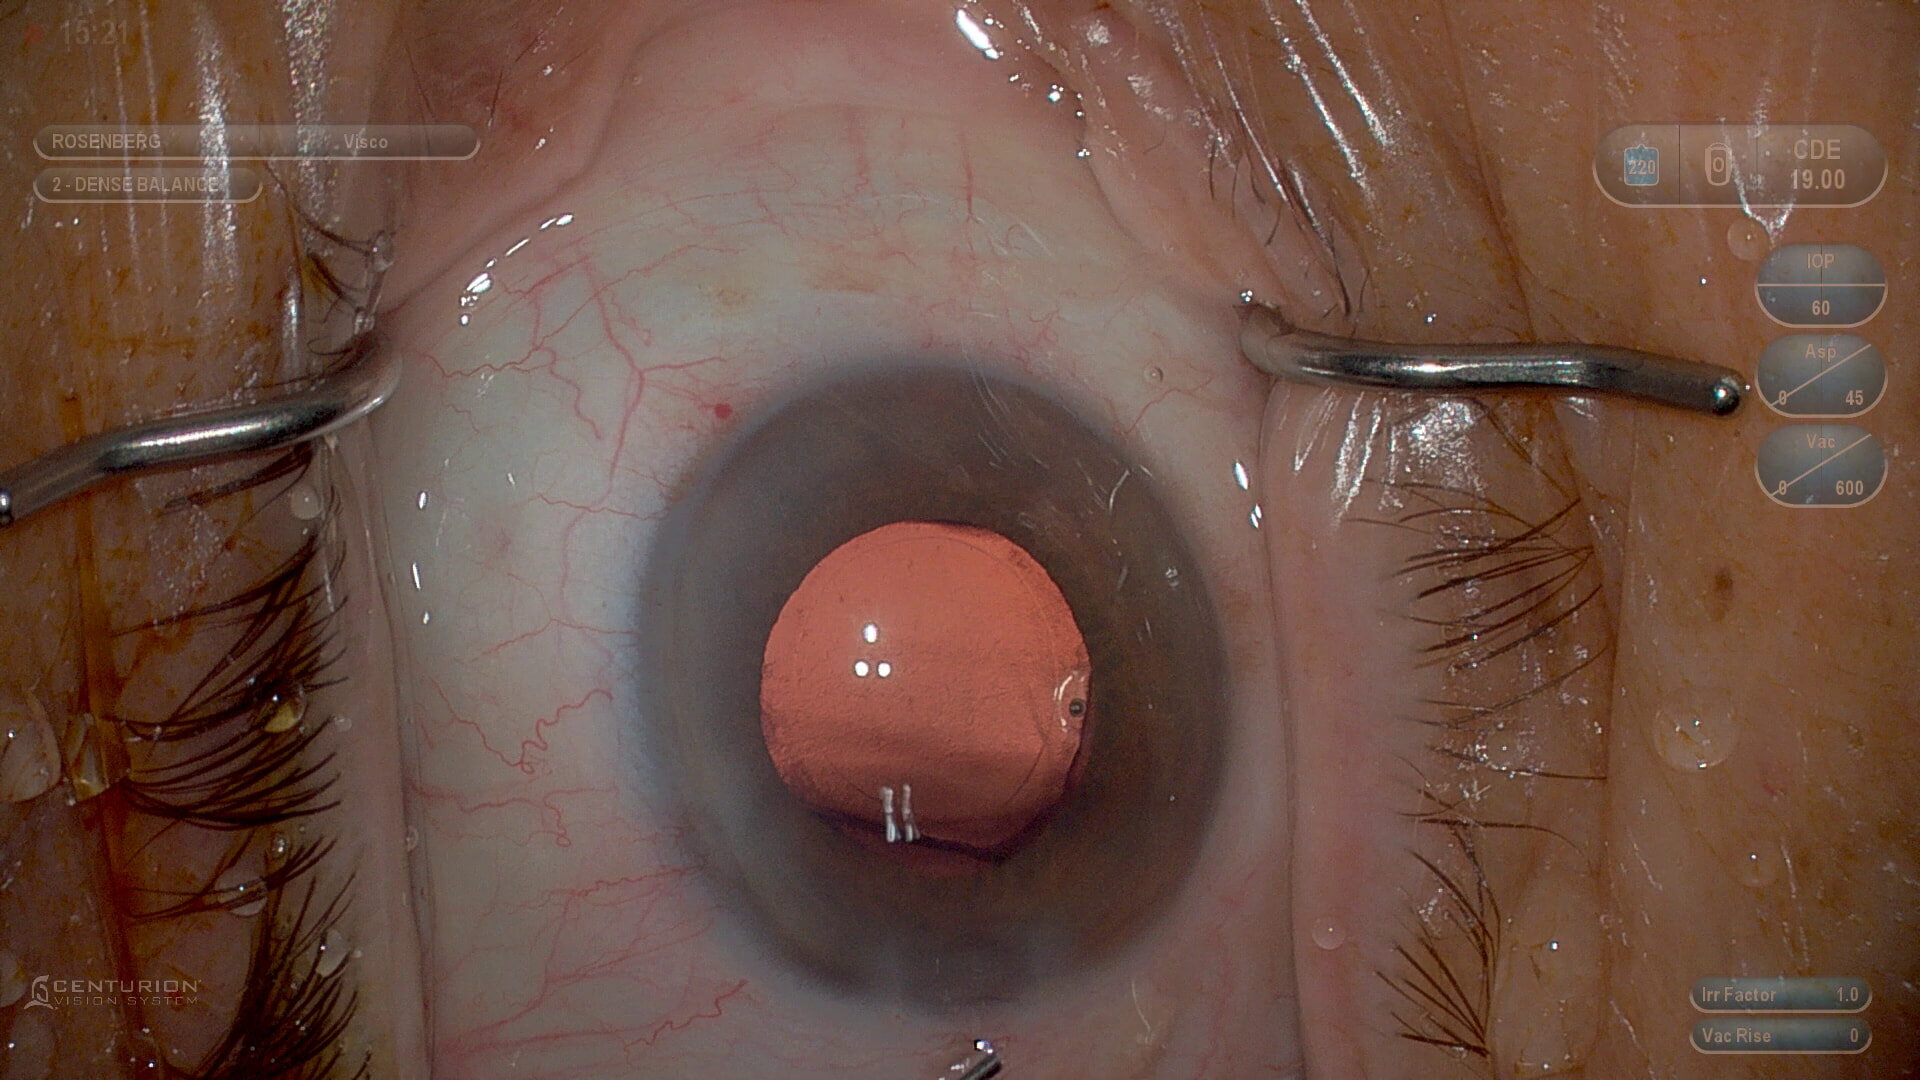iris: (647, 367, 1227, 1005)
pupil: (755, 519, 1094, 863)
